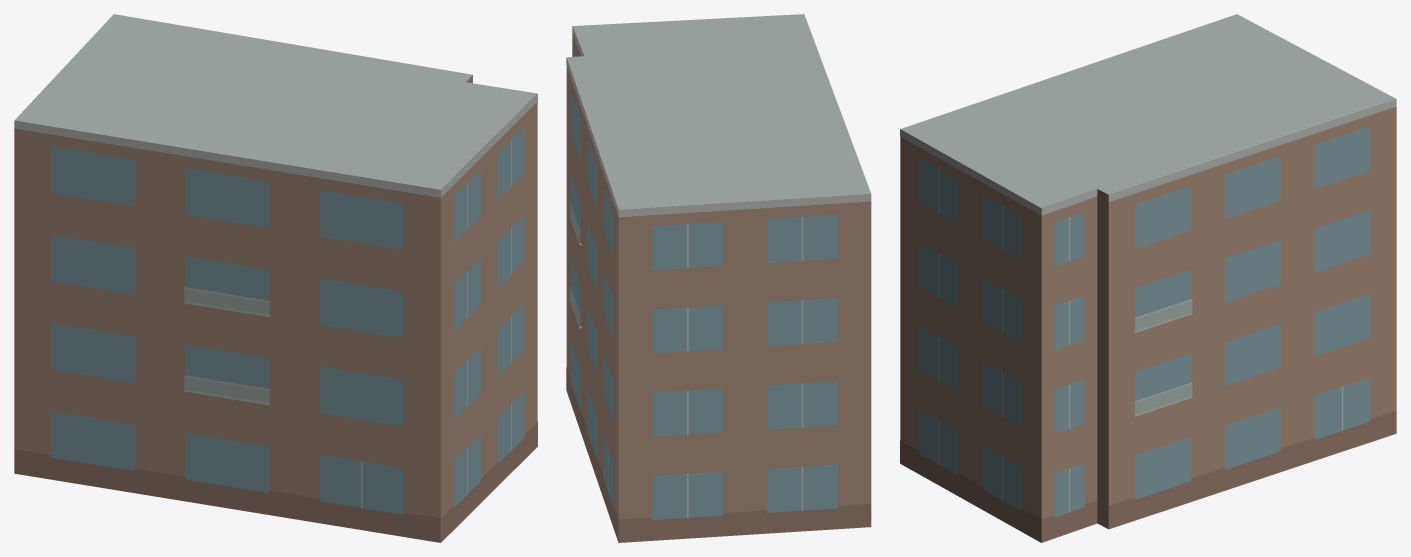
File: survey-upis-32731764.glb
The picture shows the model from 3 angles, left to right: view 1: azimuth 30°, elevation 25°; view 2: azimuth 150°, elevation 25°; view 3: azimuth 270°, elevation 25°; orthographic projection. The views are drawn at different scales.
Parts seen in each view (by area): view 1: survey-upis-32731764.tmp; view 2: survey-upis-32731764.tmp; view 3: survey-upis-32731764.tmp.
Part boxes in pixels (x1,y1,x2,y2): survey-upis-32731764.tmp: (14, 14, 537, 542); survey-upis-32731764.tmp: (566, 14, 871, 542); survey-upis-32731764.tmp: (900, 14, 1396, 542).
Size of the model in its own units: 13.55 by 10.88 by 14.63.
